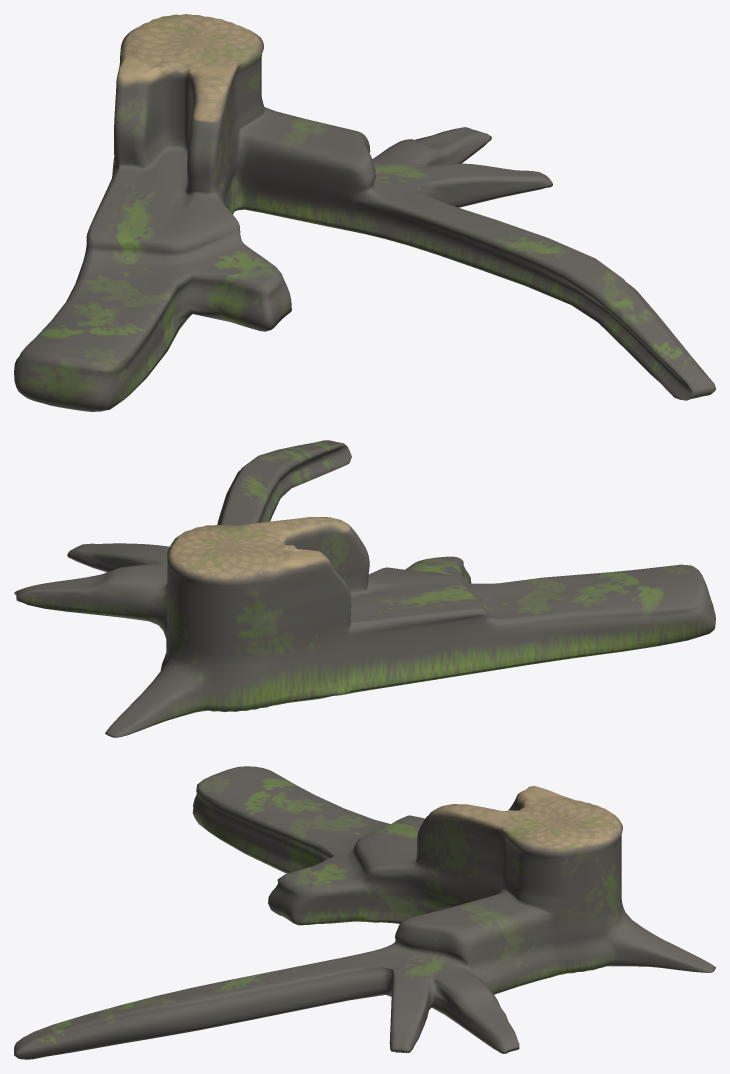
Rendered from Big_Tree.fbx.
3 renders of one model, top to bottom at view 1: azimuth 30°, elevation 25°; view 2: azimuth 150°, elevation 25°; view 3: azimuth 270°, elevation 25°, orthographic. The views are drawn at different scales.
Visible parts, largest first — view 1: Big_Tree; view 2: Big_Tree; view 3: Big_Tree.
Part boxes in pixels (left/top/right/bottom): Big_Tree: left=14, top=14, right=715, bottom=411; Big_Tree: left=14, top=440, right=715, bottom=737; Big_Tree: left=14, top=766, right=715, bottom=1059.
Size of the model in its own units: 405 by 109 by 460.
1 material, 1 textured.
